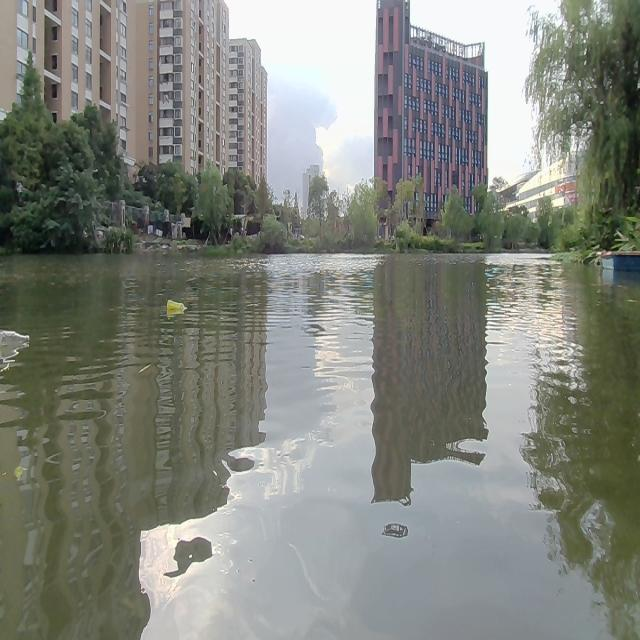bottle: (0, 321, 28, 348), (163, 292, 190, 320)
